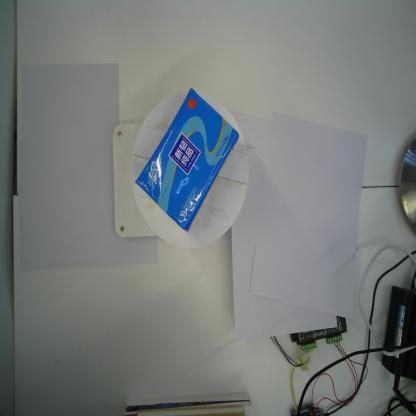Tissue: (131, 87, 240, 235)
